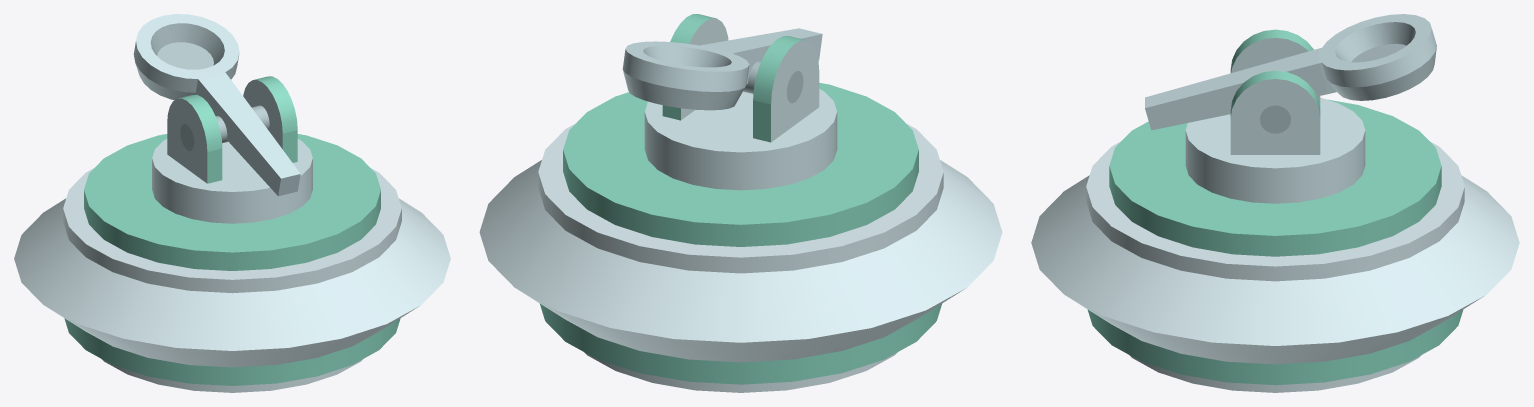
Rendered from Drilon_green.fbx.
3 renders of one model, left to right at view 1: azimuth 30°, elevation 25°; view 2: azimuth 150°, elevation 25°; view 3: azimuth 270°, elevation 25°, orthographic. The views are drawn at different scales.
Visible parts, largest first — view 1: Green_bottom, Green_top, Green_catapult; view 2: Green_bottom, Green_top, Green_catapult; view 3: Green_bottom, Green_top, Green_catapult.
Part boxes in pixels (bbox=[...]): Green_bottom: bbox=[14, 134, 450, 392]; Green_top: bbox=[152, 76, 312, 223]; Green_catapult: bbox=[133, 14, 300, 196]; Green_bottom: bbox=[479, 83, 1002, 392]; Green_top: bbox=[644, 14, 837, 190]; Green_catapult: bbox=[622, 28, 822, 110]; Green_bottom: bbox=[1031, 99, 1519, 392]; Green_top: bbox=[1185, 29, 1365, 203]; Green_catapult: bbox=[1145, 14, 1436, 130].
Size of the model in its own units: 100 by 66.52 by 100.
